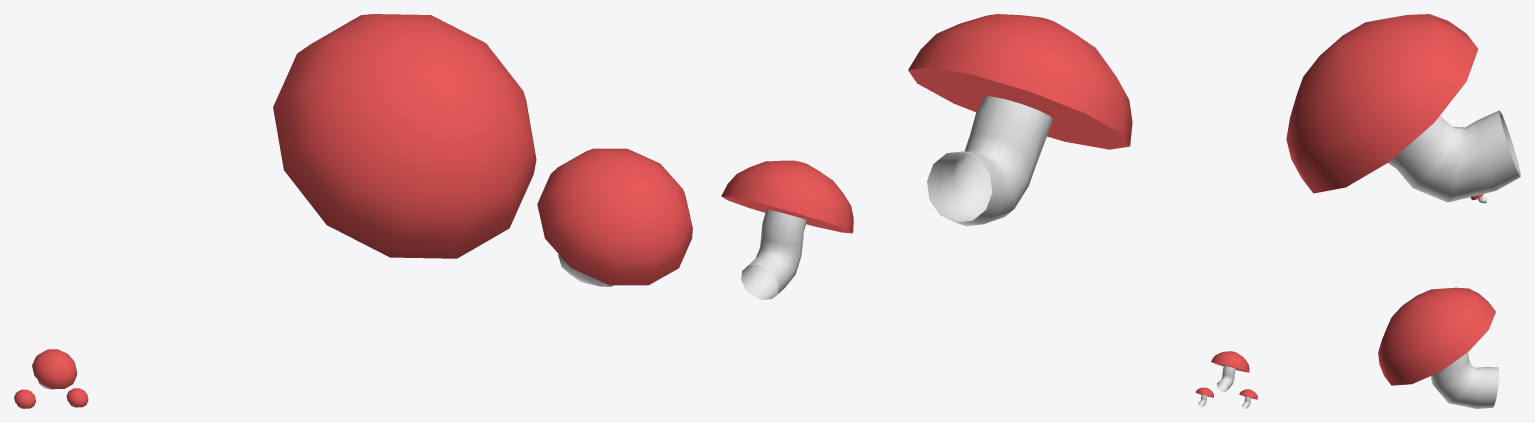
Rendered from Fallen log Mushrooms.fbx.
The picture shows the model from 3 angles, left to right: view 1: azimuth 30°, elevation 25°; view 2: azimuth 150°, elevation 25°; view 3: azimuth 270°, elevation 25°; orthographic projection. The views are drawn at different scales.
Visible parts, largest first — view 1: Cylinder.002, Cylinder.001, Cylinder.003; view 2: Cylinder.002, Cylinder.001, Cylinder.003; view 3: Cylinder.002, Cylinder.001.
Boxes of the visible parts, left/top/right/bottom form: Cylinder.002: left=273, top=14, right=536, bottom=258; Cylinder.001: left=537, top=148, right=692, bottom=286; Cylinder.003: left=32, top=349, right=76, bottom=389; Cylinder.002: left=908, top=14, right=1132, bottom=226; Cylinder.001: left=721, top=160, right=853, bottom=299; Cylinder.003: left=1211, top=351, right=1249, bottom=391; Cylinder.002: left=1286, top=14, right=1520, bottom=202; Cylinder.001: left=1378, top=287, right=1499, bottom=408.
Size of the model in its own units: 204 by 105 by 78.03.
